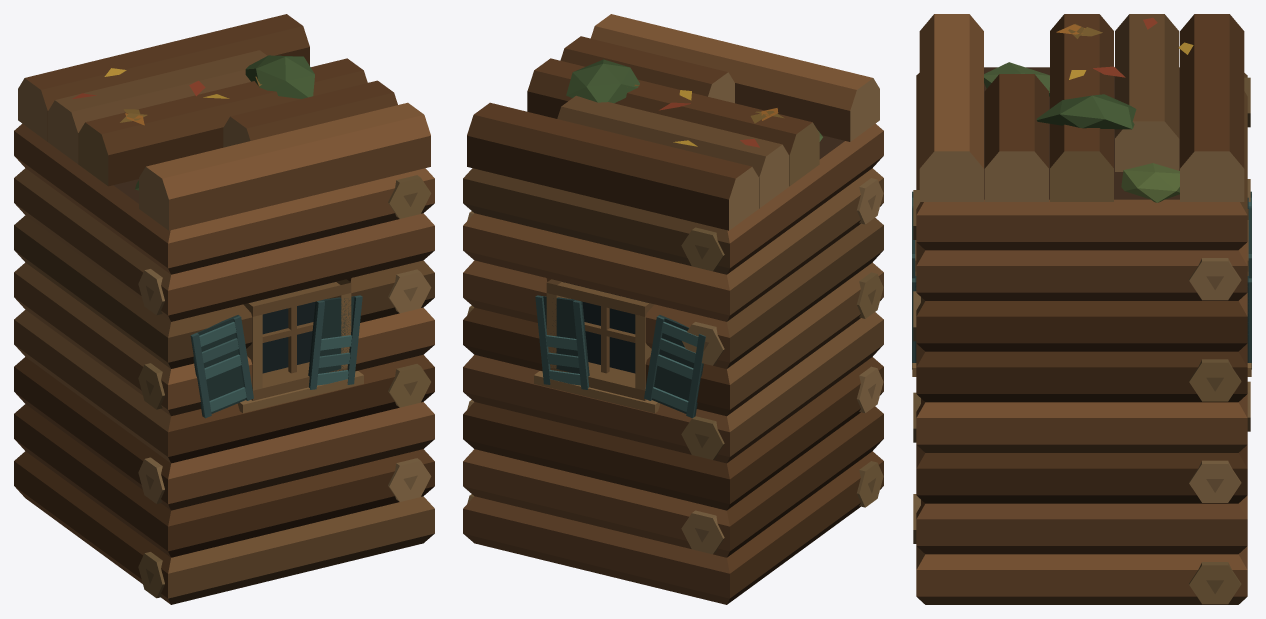
File: parede_madeira_janela.glb
The picture shows the model from 3 angles, left to right: view 1: azimuth 30°, elevation 25°; view 2: azimuth 150°, elevation 25°; view 3: azimuth 270°, elevation 25°; orthographic projection. The views are drawn at different scales.
Parts seen in each view (by area): view 1: parede_madeira_janela.001; view 2: parede_madeira_janela.001; view 3: parede_madeira_janela.001.
Part boxes in pixels (x1,y1,x2,y2): parede_madeira_janela.001: (14,14,434,604); parede_madeira_janela.001: (463,14,883,604); parede_madeira_janela.001: (912,14,1251,604).
Bounding box in the file's own units: 1.67 × 2.59 × 1.67.
